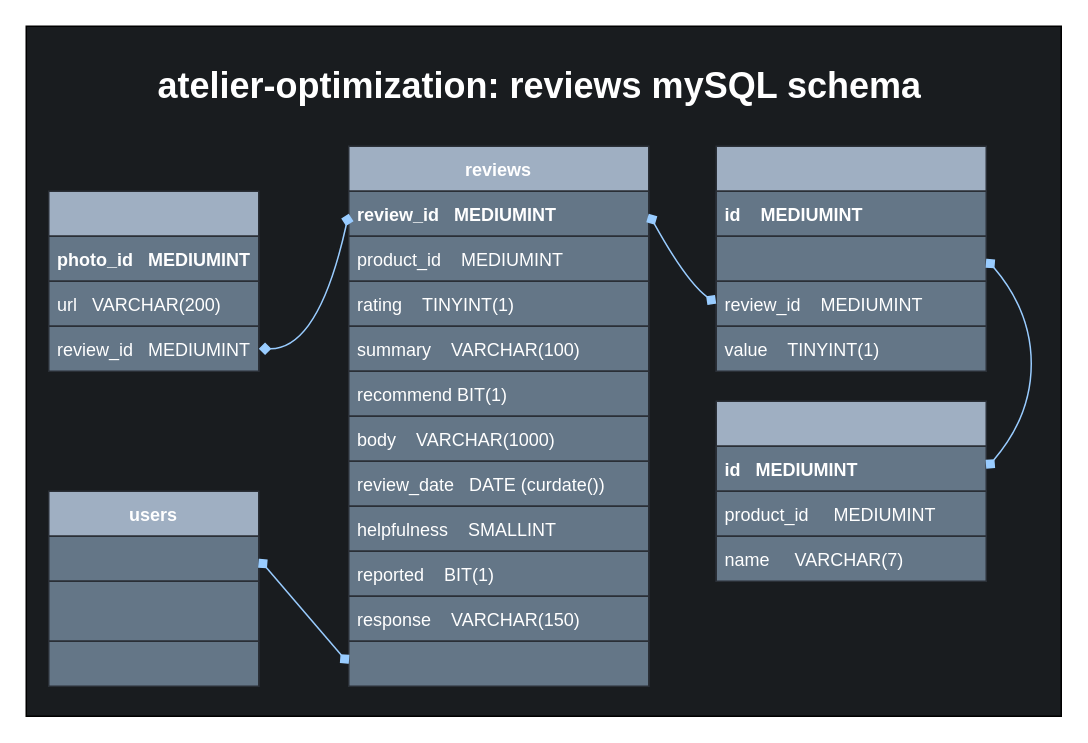
Some shapes in this 1088 by 743 pixel diagram are drawn without their labels. Each missing label, with the box of its shape:
characteristic_id MEDIUMINT: (715, 235, 986, 281)
characteristic_reviews: (715, 145, 986, 371)
characteristics: (715, 400, 986, 581)
email VARCHAR(150): (47, 640, 259, 686)
name VARCHAR(30), Unique: (47, 580, 259, 641)
photos: (47, 190, 259, 371)
reviewer_id MEDIUMINT: (347, 640, 649, 686)
user_id MEDIUMINT: (47, 535, 259, 581)
